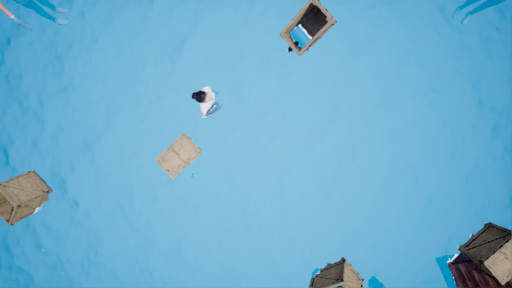person: (193, 87, 226, 117)
